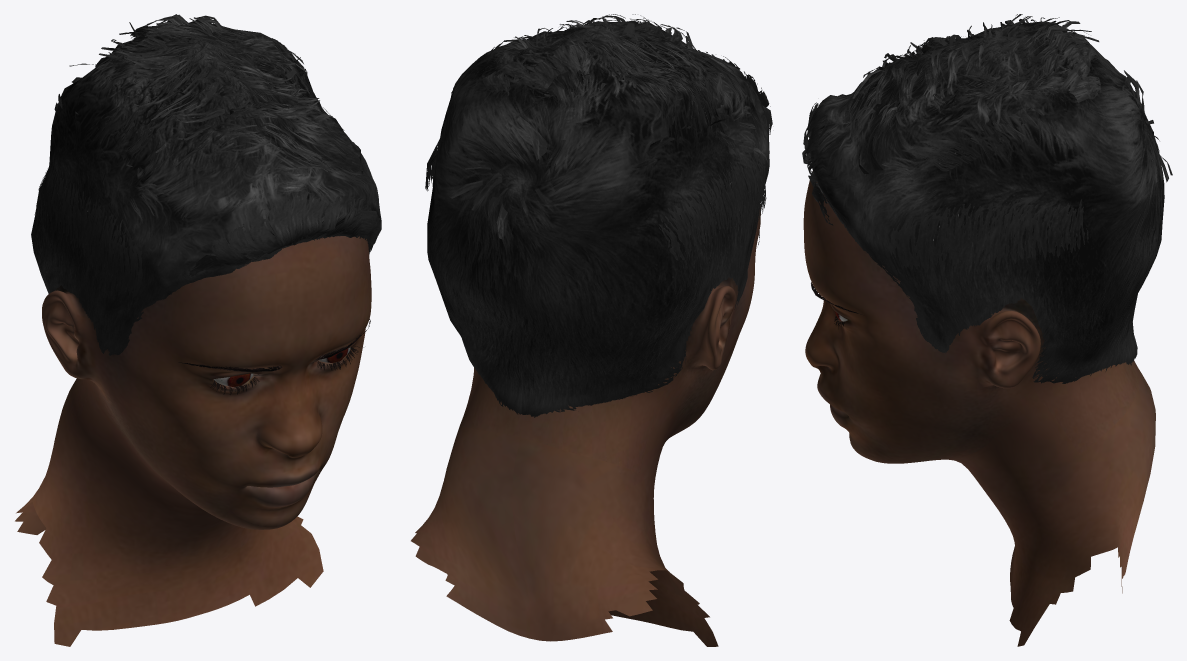
The model's file is head-neck.glb.
The picture shows the model from 3 angles, left to right: view 1: azimuth 30°, elevation 25°; view 2: azimuth 150°, elevation 25°; view 3: azimuth 270°, elevation 25°; orthographic projection. The views are drawn at different scales.
Visible parts, largest first — view 1: base, short01, low-poly, eyebrow001, eyelashes01; view 2: short01, base; view 3: short01, base.
Part boxes in pixels (x1,y1,x2,y2): base: (15, 236, 371, 646); short01: (31, 14, 381, 355); low-poly: (213, 347, 350, 386); eyebrow001: (178, 319, 370, 372); eyelashes01: (210, 346, 363, 394); short01: (425, 14, 772, 417); base: (411, 205, 760, 646); short01: (802, 14, 1172, 383); base: (803, 171, 1155, 646).
Bounding box in the file's own units: 0.1695 × 0.3346 × 0.1996.
Materials: 7 (7 with a texture image).
